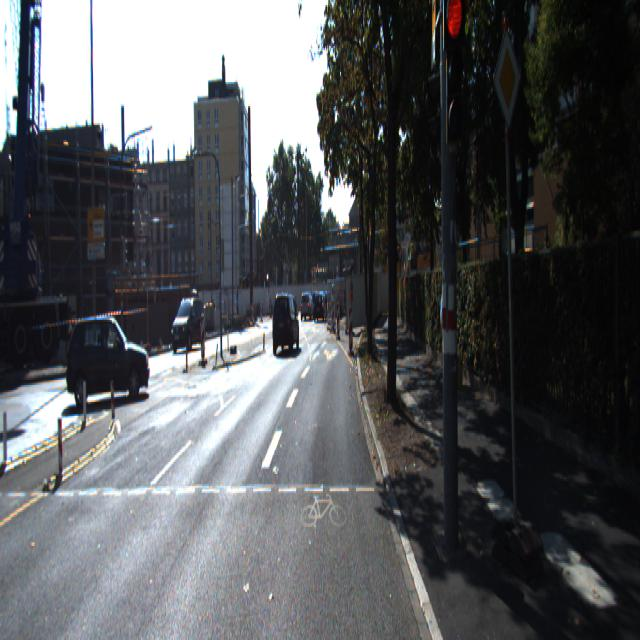Car: (68, 314, 151, 415), (170, 292, 205, 350), (270, 288, 300, 354), (284, 293, 297, 332)
